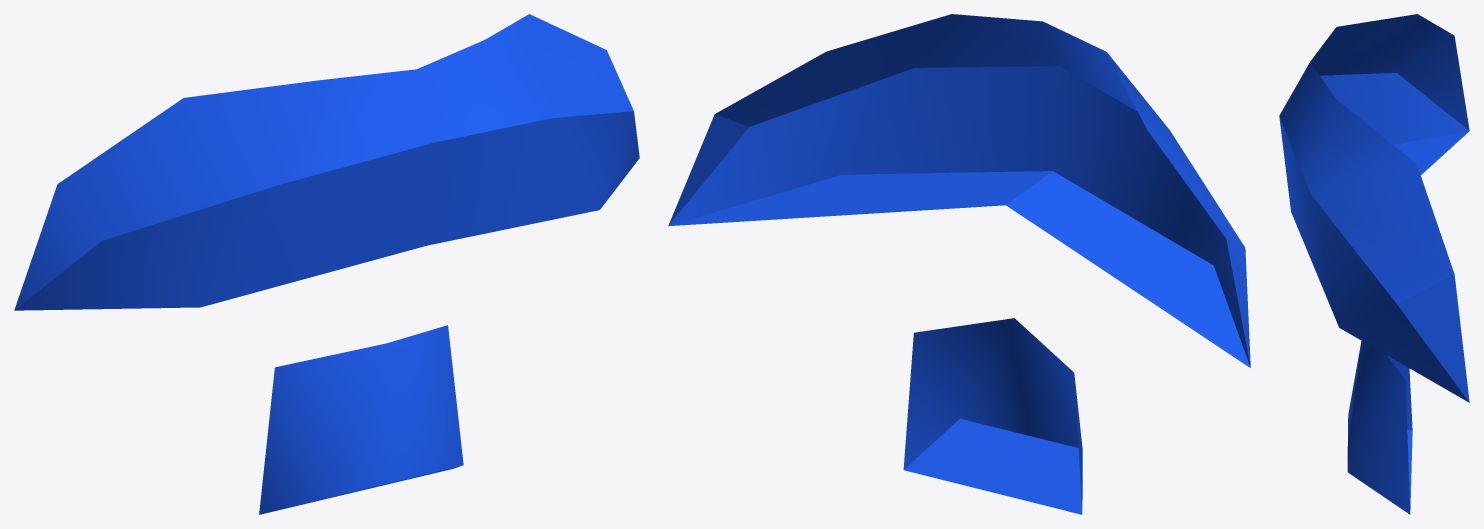
File: Male_Mustache_02_v4.fbx
3 renders of one model, left to right at view 1: azimuth 30°, elevation 25°; view 2: azimuth 150°, elevation 25°; view 3: azimuth 270°, elevation 25°, orthographic. The views are drawn at different scales.
Visible parts, largest first — view 1: Male_Mustache_02_v4; view 2: Male_Mustache_02_v4; view 3: Male_Mustache_02_v4.
Boxes of the visible parts, left/top/right/bottom form: Male_Mustache_02_v4: left=14, top=14, right=639, bottom=514; Male_Mustache_02_v4: left=668, top=14, right=1250, bottom=514; Male_Mustache_02_v4: left=1279, top=14, right=1469, bottom=514.
Size of the model in its own units: 22.73 by 16.09 by 6.73.
